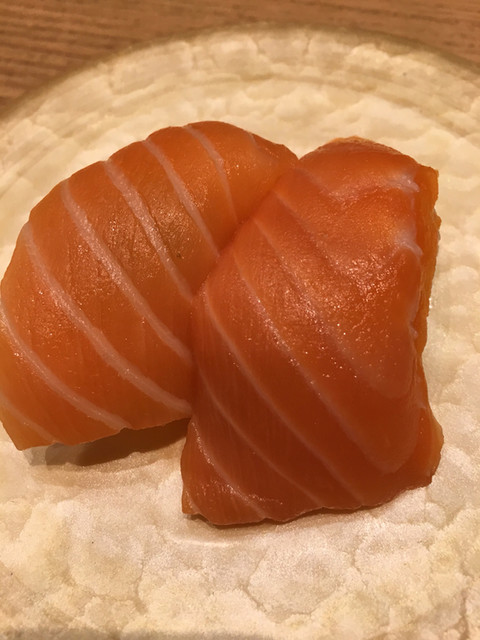salmon: (203, 134, 434, 519), (10, 123, 273, 455)
